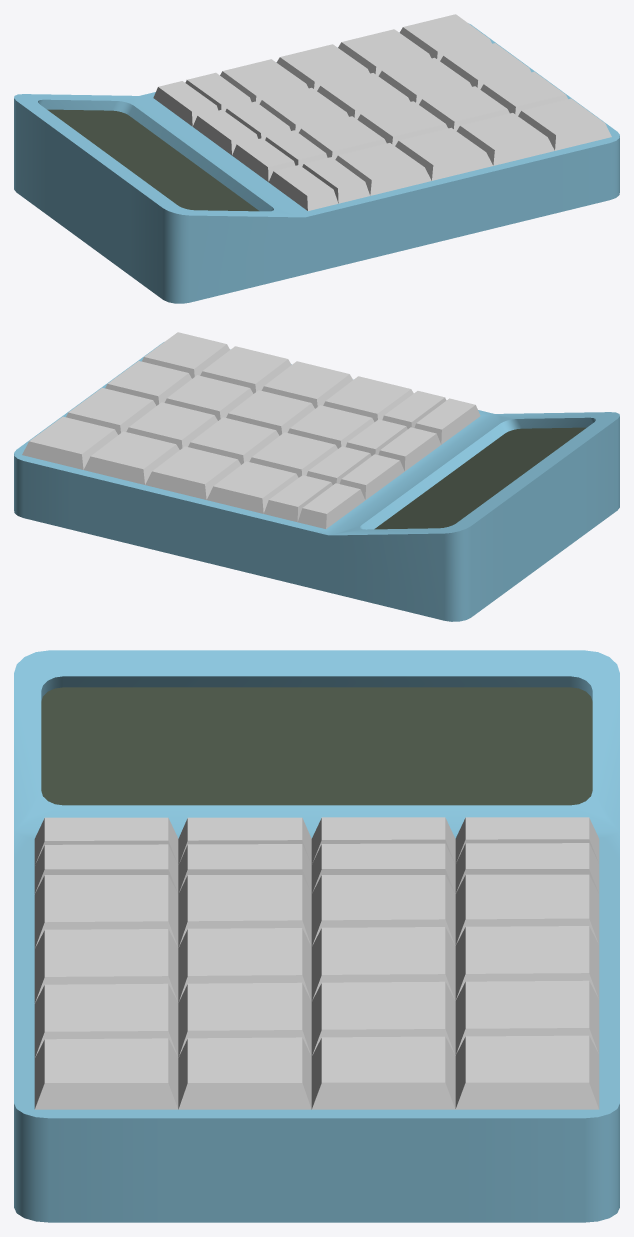
The model's file is Rekenmachine I.fbx.
3 renders of one model, top to bottom at view 1: azimuth 30°, elevation 25°; view 2: azimuth 150°, elevation 25°; view 3: azimuth 270°, elevation 25°, orthographic. The views are drawn at different scales.
Parts seen in each view (by area): view 1: Plane.031; view 2: Plane.031; view 3: Plane.031.
Boxes of the visible parts, <box> form: Plane.031: <box>14,14,619,303</box>; Plane.031: <box>14,332,619,621</box>; Plane.031: <box>14,650,619,1222</box>.
Bounding box in the file's own units: 316 × 60.92 × 200.
